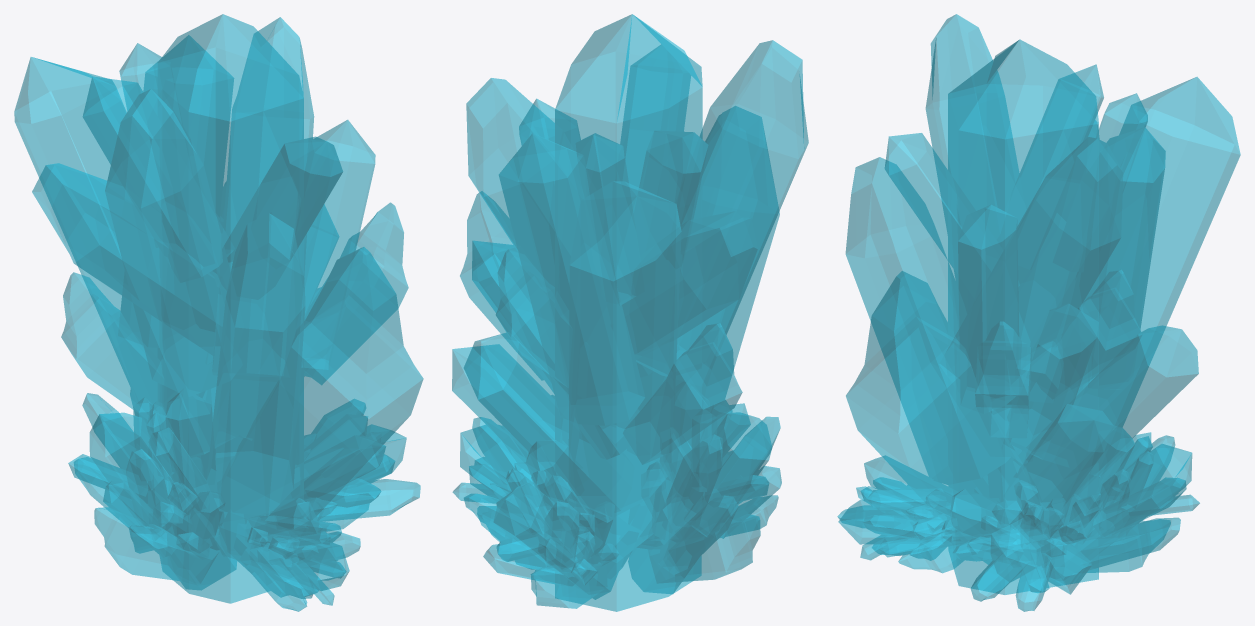
The model's file is OneCrystal.glb.
3 renders of one model, left to right at view 1: azimuth 30°, elevation 25°; view 2: azimuth 150°, elevation 25°; view 3: azimuth 270°, elevation 25°, orthographic. The views are drawn at different scales.
Visible parts, largest first — view 1: Cube.018; view 2: Cube.018; view 3: Cube.018.
Part boxes in pixels (x1,y1,x2,y2): Cube.018: (14, 14, 423, 611); Cube.018: (452, 14, 808, 611); Cube.018: (837, 14, 1240, 611).
Size of the model in its own units: 1.49 by 2.41 by 1.65.
